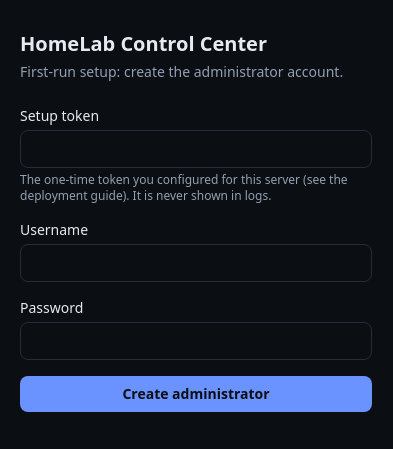
Test: AuthPage › enforces the 12-character minimum during setup and asks for the token
In the field labelled "Username": [196, 263] box [20, 244, 372, 282], type "admin"
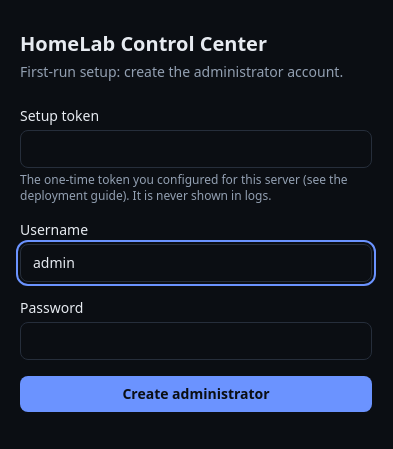
In the password field labelled "Password": [196, 341] box [20, 322, 372, 360], type "short"
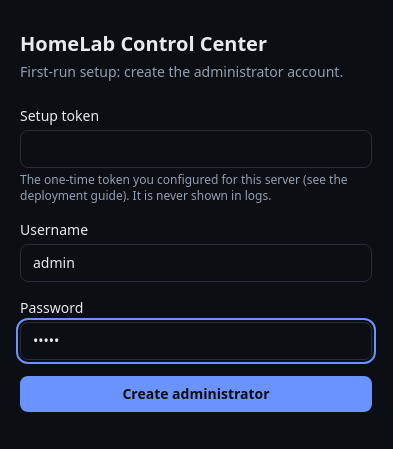
Click the button "Create administrator": [196, 394] box [20, 376, 372, 412]
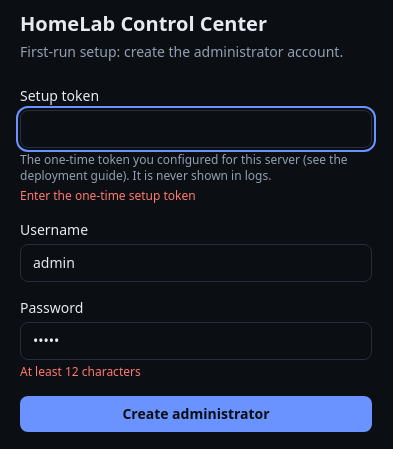
Check: the text "never shown in logs" is shown, box [20, 151, 348, 184]
Check: the text "At least 12 characters" is shown, box [20, 363, 141, 380]
Check: the text "Enter the one-time setup token" is shown, box [20, 187, 196, 204]
